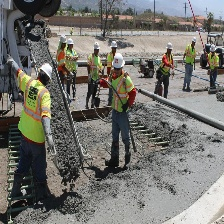helmet: (37, 61, 54, 84), (111, 53, 126, 69), (59, 32, 67, 46), (208, 44, 217, 54), (190, 35, 198, 45), (165, 41, 173, 51), (66, 38, 74, 47), (110, 40, 118, 49), (92, 43, 100, 52)
person: (10, 55, 57, 207), (105, 52, 135, 169), (86, 40, 105, 106), (156, 40, 176, 98), (65, 38, 80, 101), (181, 37, 198, 91), (205, 44, 222, 87), (56, 34, 68, 88)
vest: (15, 80, 53, 145), (105, 74, 132, 116), (87, 55, 102, 85), (160, 53, 174, 78), (66, 49, 78, 74), (184, 42, 195, 66), (207, 52, 219, 74), (108, 51, 115, 69)
